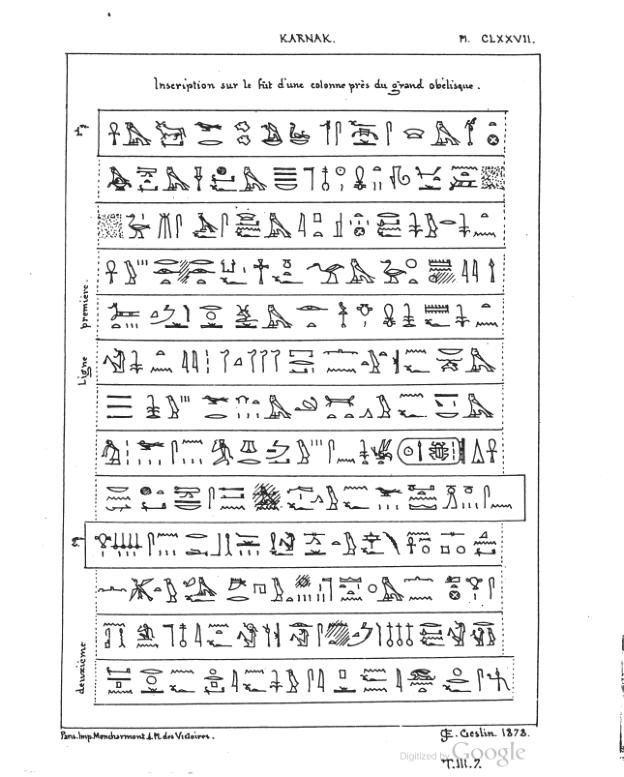circle: (394, 434, 468, 468)
